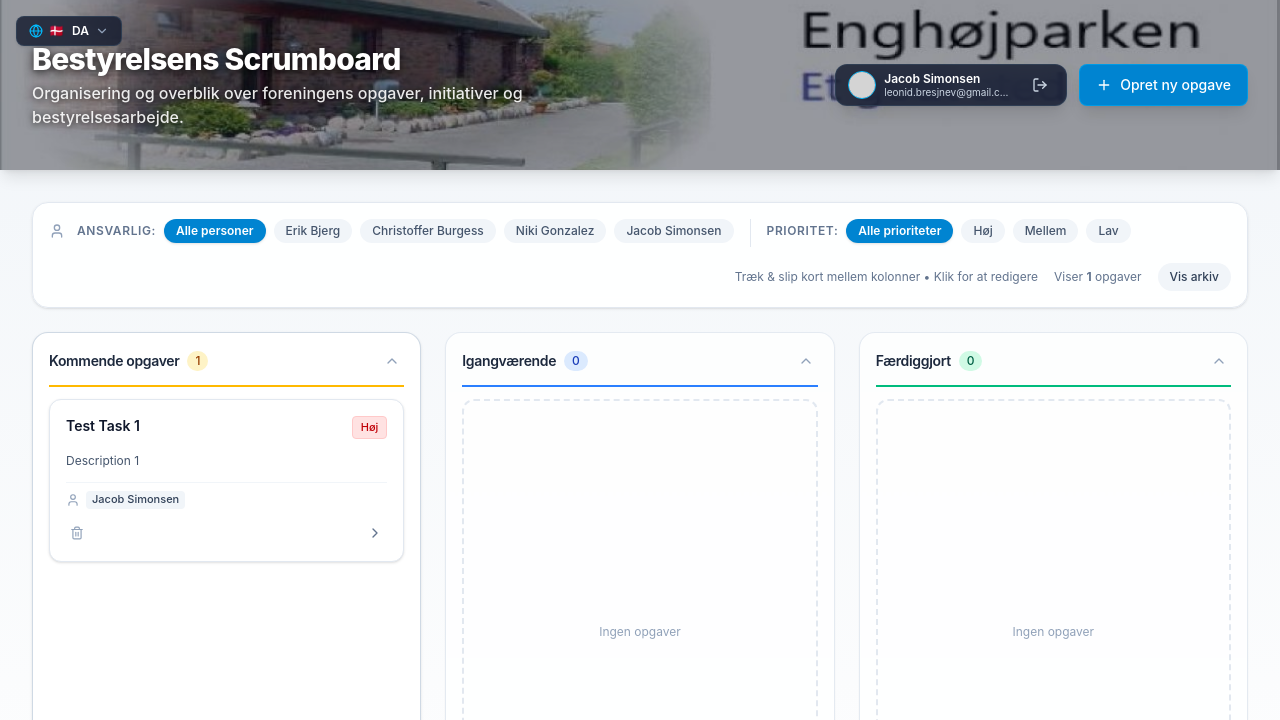
it: Internationalization and LanguageSelector Tests › renders language selector button in header and switches language to English
The width and height of the screenshot is (1280, 720).
Note: Open language menu
Click the button with aria-label "vælg sprog / select language" at {"x": 69, "y": 31}, box [16,16,122,46]
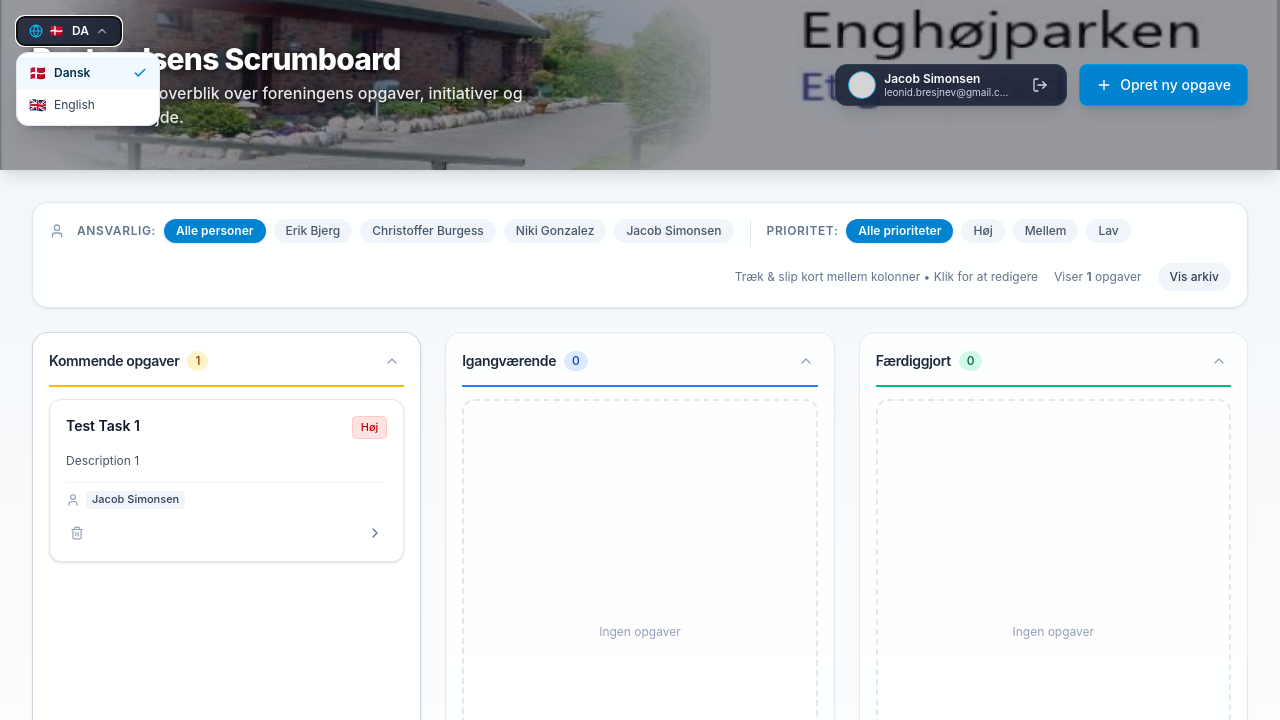
Expected: the menu is shown, [16,52,160,126]
Expected: the text "Dansk" is shown, [54,65,90,81]
Expected: the text "English" is shown
Note: Click English option
Click the text "English" at {"x": 74, "y": 105}, box [54,97,95,113]
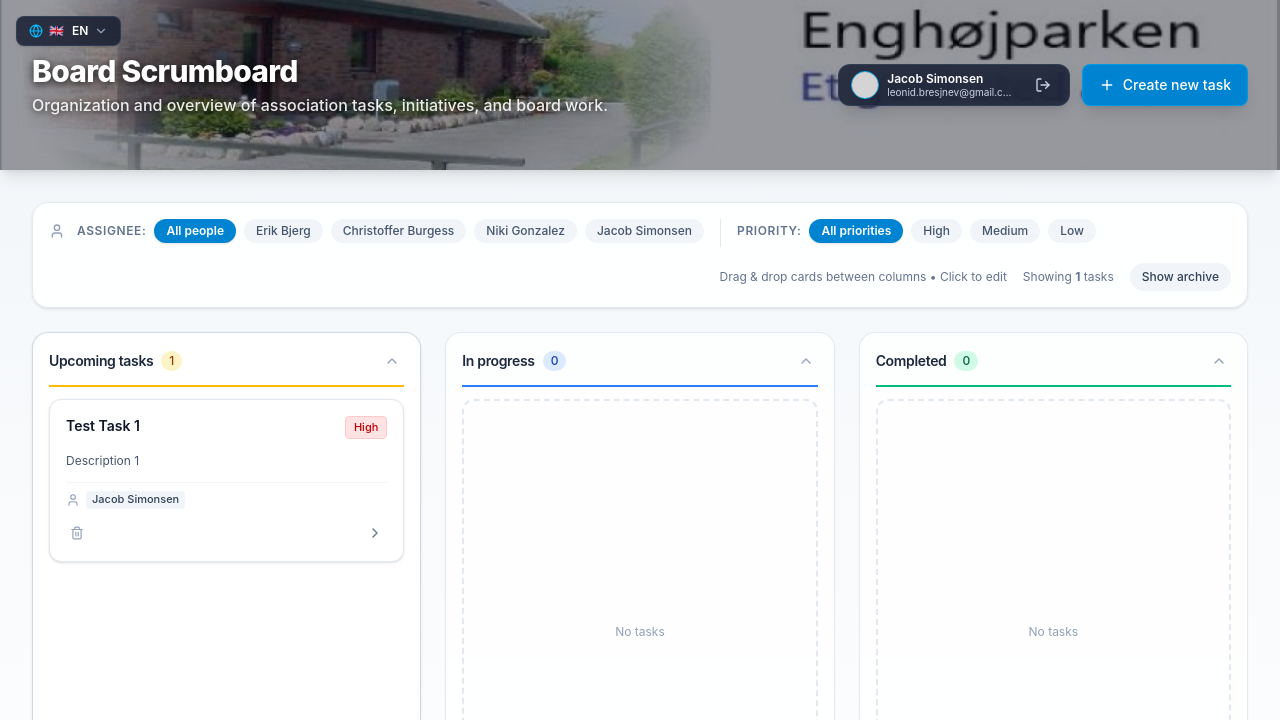
Expected: the heading "Board Scrumboard" is shown, [32,53,298,89]
Expected: the heading "Upcoming tasks" is shown, [49,351,153,371]
Expected: the heading "In progress" is shown, [462,351,535,371]
